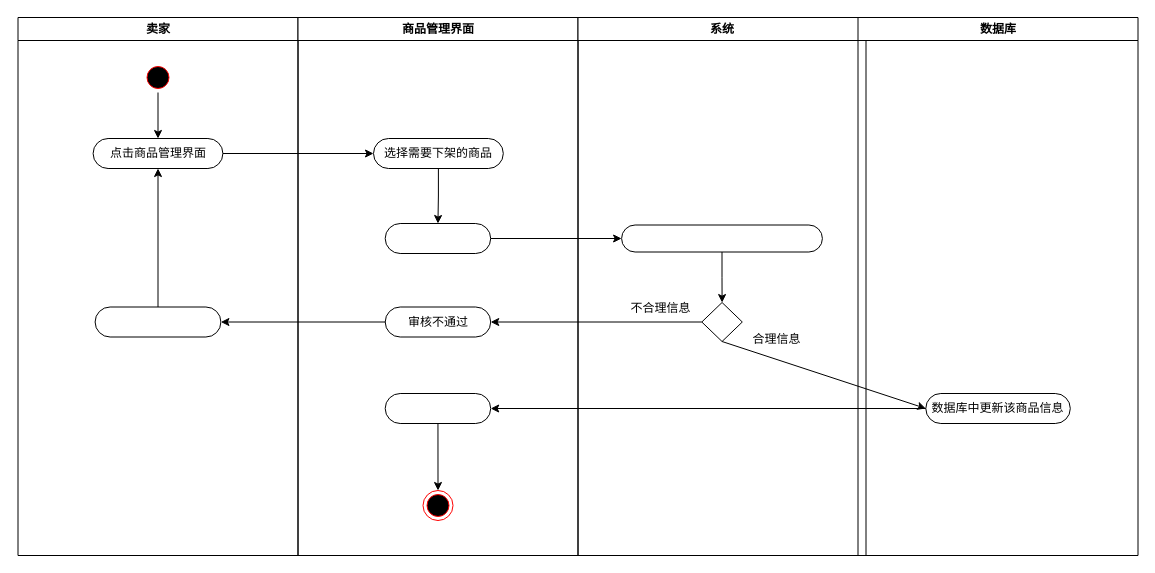
The diagram is 1155 pixels wide and 573 high, and some of its shapes have lost their labels. Here are the shapes that lost their labels. From the top down, the centre of each, then its label:
the point at 437,238: 点击确认下架按钮
the point at 721,238: 到数据库中查询是否满足下架条件
the point at 157,321: 重新填写需修改信息
the point at 437,408: 修改商品信息成功
